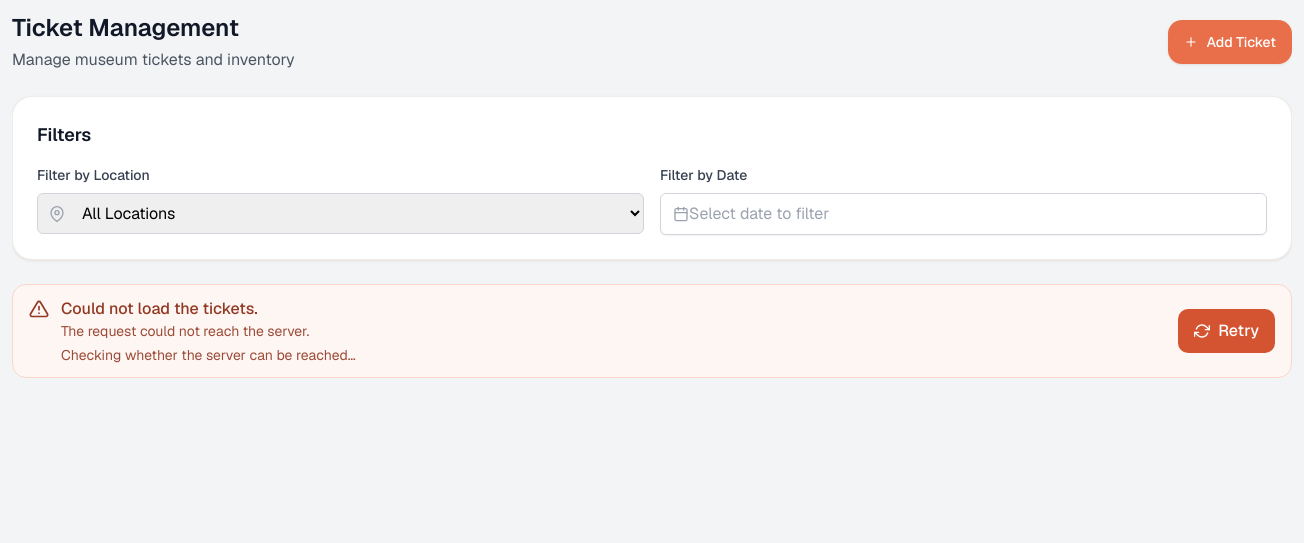
Test case: Tickets page when the fetch fails (step 4.8) › Retry fetches again, records the press, and the list appears when the link is back
This screenshot has width=1304, height=543.
Click the button "Retry": (1227, 331) [1178, 309, 1275, 353]
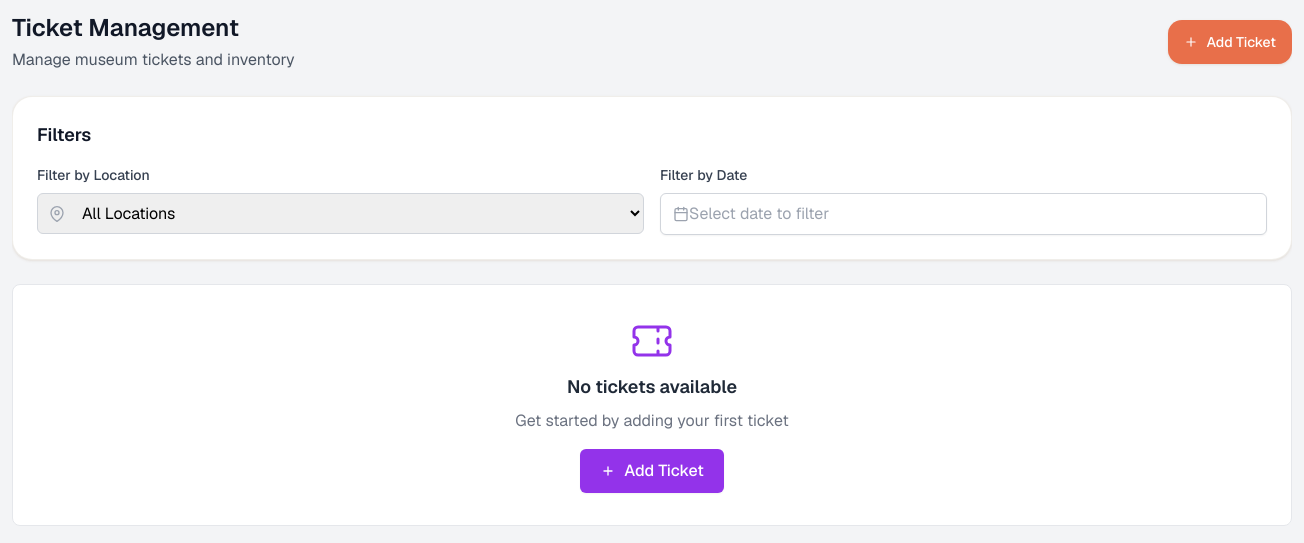
Check: the heading "No tickets available" is shown, box [567, 375, 737, 398]
Check: the message with test id "load-problem" is gone
